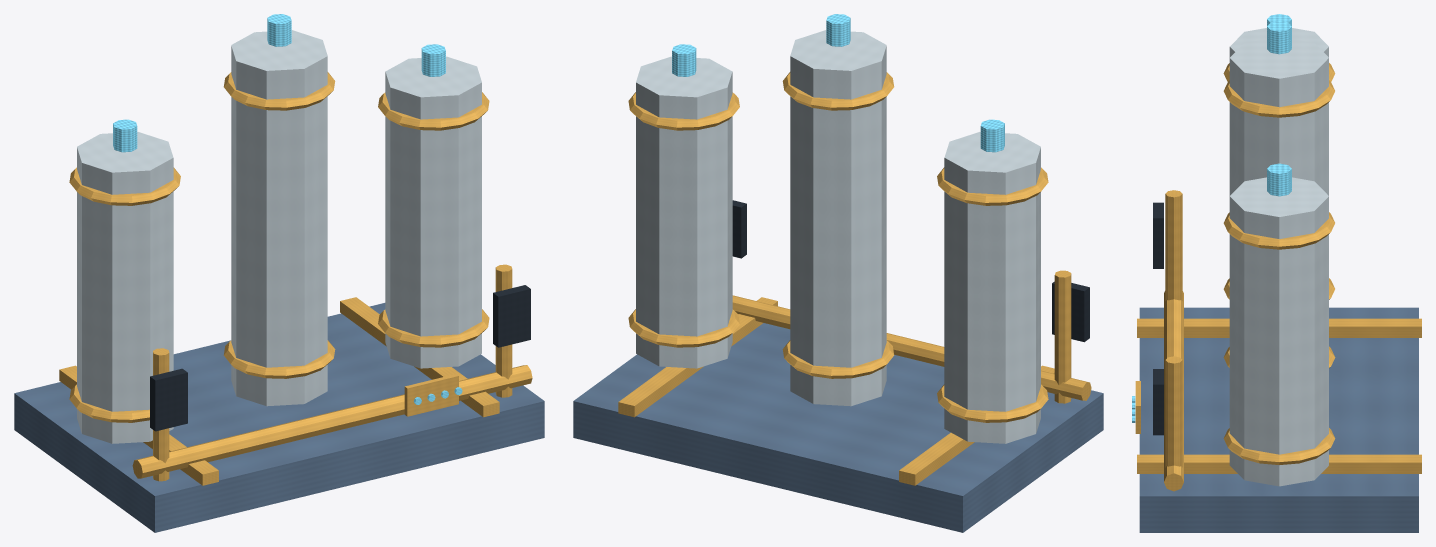
File: atlas100-s055-a02.glb
The picture shows the model from 3 angles, left to right: view 1: azimuth 30°, elevation 25°; view 2: azimuth 150°, elevation 25°; view 3: azimuth 270°, elevation 25°; orthographic projection.
Visible parts, largest first — view 1: atlas100-s055-a02:part-000, atlas100-s055-a02:part-007, atlas100-s055-a02:part-011, atlas100-s055-a02:part-003, atlas100-s055-a02:part-019, atlas100-s055-a02:part-016, atlas100-s055-a02:part-018, atlas100-s055-a02:part-002, atlas100-s055-a02:part-020, atlas100-s055-a02:part-009, atlas100-s055-a02:part-005, atlas100-s055-a02:part-008 (+9 smaller); view 2: atlas100-s055-a02:part-000, atlas100-s055-a02:part-007, atlas100-s055-a02:part-003, atlas100-s055-a02:part-011, atlas100-s055-a02:part-019, atlas100-s055-a02:part-002, atlas100-s055-a02:part-015, atlas100-s055-a02:part-001, atlas100-s055-a02:part-009, atlas100-s055-a02:part-004, atlas100-s055-a02:part-005, atlas100-s055-a02:part-008 (+7 smaller); view 3: atlas100-s055-a02:part-000, atlas100-s055-a02:part-011, atlas100-s055-a02:part-007, atlas100-s055-a02:part-002, atlas100-s055-a02:part-001, atlas100-s055-a02:part-019, atlas100-s055-a02:part-015, atlas100-s055-a02:part-017, atlas100-s055-a02:part-012, atlas100-s055-a02:part-009, atlas100-s055-a02:part-013, atlas100-s055-a02:part-003 (+4 smaller).
Part boxes in pixels (x1,y1,x2,y2): atlas100-s055-a02:part-000: (14,303,544,532); atlas100-s055-a02:part-007: (231,30,327,406); atlas100-s055-a02:part-011: (385,56,481,368); atlas100-s055-a02:part-003: (77,132,173,443); atlas100-s055-a02:part-019: (132,365,532,478); atlas100-s055-a02:part-016: (150,368,187,431); atlas100-s055-a02:part-018: (493,285,530,347); atlas100-s055-a02:part-002: (340,297,499,417); atlas100-s055-a02:part-020: (404,374,458,416); atlas100-s055-a02:part-009: (223,72,335,110); atlas100-s055-a02:part-005: (69,167,180,205); atlas100-s055-a02:part-008: (223,340,335,378); atlas100-s055-a02:part-000: (573,323,1103,532); atlas100-s055-a02:part-007: (790,30,886,406); atlas100-s055-a02:part-003: (944,132,1040,443); atlas100-s055-a02:part-011: (636,56,732,368); atlas100-s055-a02:part-019: (732,295,1091,400); atlas100-s055-a02:part-002: (618,297,777,417); atlas100-s055-a02:part-015: (1054,270,1071,403); atlas100-s055-a02:part-001: (899,365,1054,485); atlas100-s055-a02:part-009: (782,72,894,110); atlas100-s055-a02:part-004: (937,384,1048,422); atlas100-s055-a02:part-005: (937,167,1048,205); atlas100-s055-a02:part-008: (782,340,894,378); atlas100-s055-a02:part-000: (1139,307,1418,532); atlas100-s055-a02:part-011: (1229,177,1328,486); atlas100-s055-a02:part-007: (1229,39,1328,195); atlas100-s055-a02:part-002: (1137,454,1421,473); atlas100-s055-a02:part-001: (1137,318,1421,337); atlas100-s055-a02:part-019: (1164,291,1183,491); atlas100-s055-a02:part-015: (1165,190,1182,300); atlas100-s055-a02:part-017: (1165,356,1182,467); atlas100-s055-a02:part-012: (1223,428,1335,464); atlas100-s055-a02:part-009: (1223,80,1334,117); atlas100-s055-a02:part-013: (1223,212,1334,249); atlas100-s055-a02:part-003: (1229,28,1328,57).
Bounding box in the file's own units: 3 × 2.93 × 1.87.
Materials: 5 (5 with a texture image).
